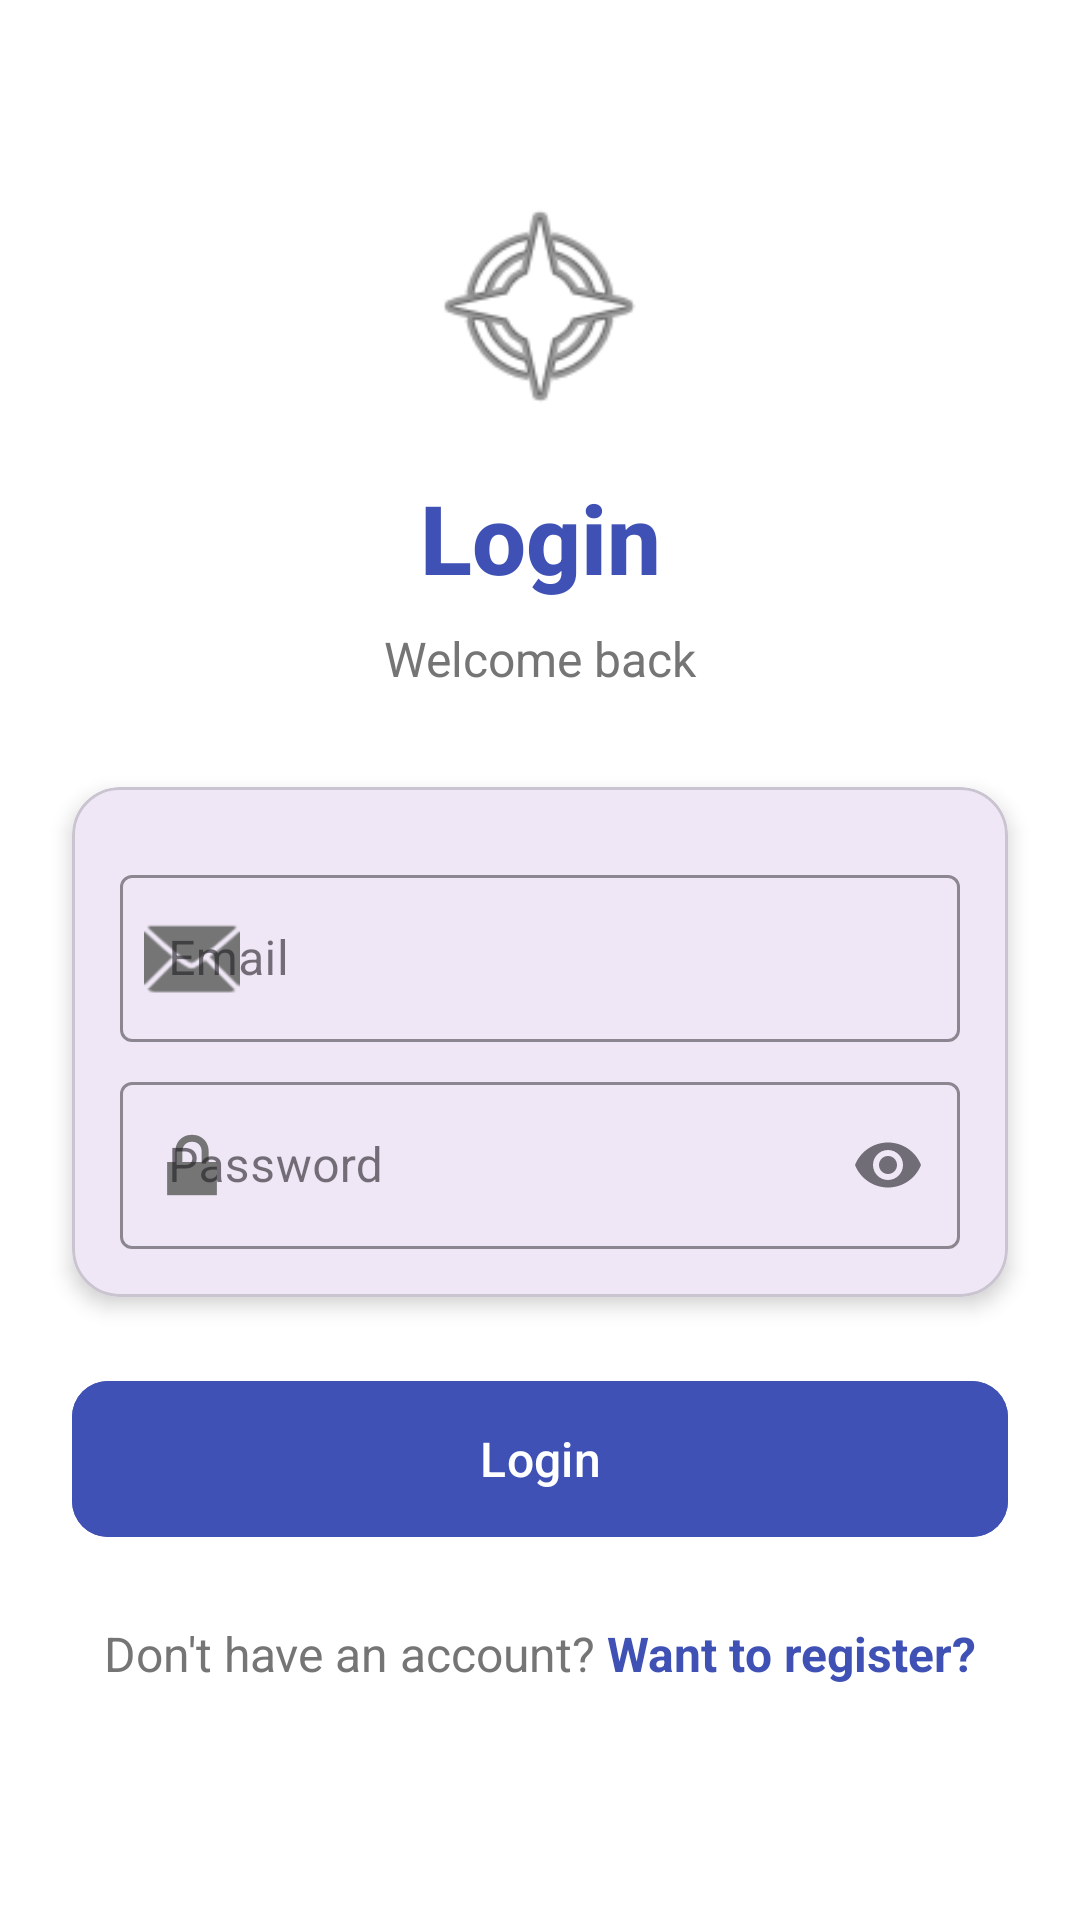

Where to tap for icons on this 1080×1920 app screen, as (x,y):
compass: (539,306)
